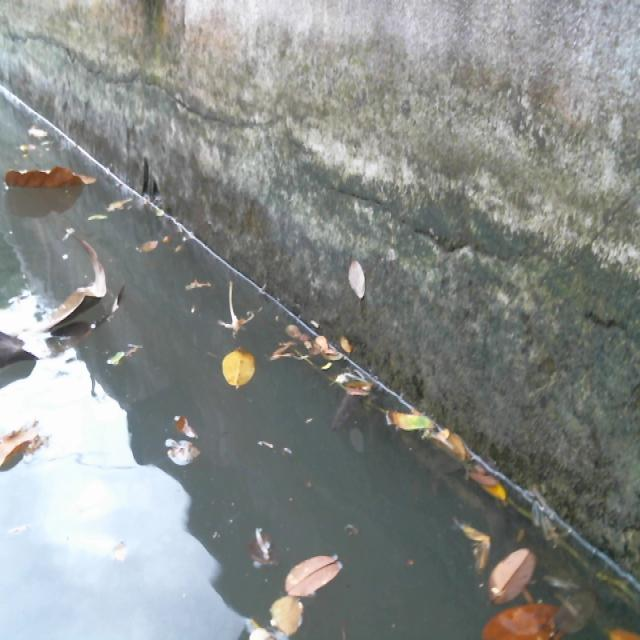Big-leaf: (0, 237, 120, 369), (8, 154, 102, 198), (0, 421, 52, 480)
Small-leaf: (208, 330, 264, 407), (481, 598, 567, 640), (284, 544, 352, 595), (489, 544, 542, 601), (267, 587, 315, 635), (168, 405, 201, 473), (462, 516, 496, 577), (391, 408, 442, 444), (438, 425, 477, 469), (476, 469, 514, 503), (341, 377, 385, 406), (315, 330, 347, 366), (132, 234, 175, 257), (606, 623, 640, 640)
